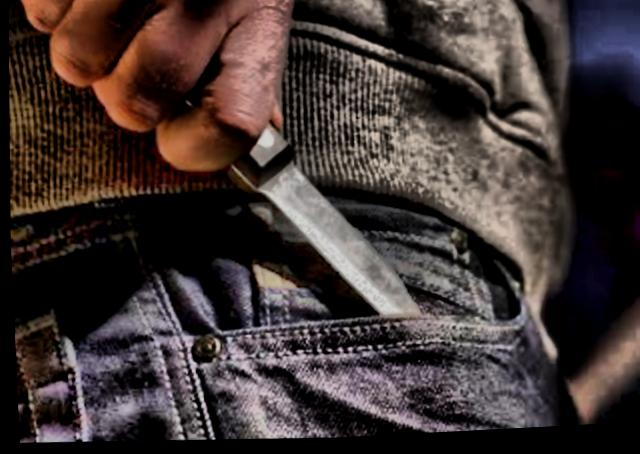knife: (94, 31, 442, 346)
